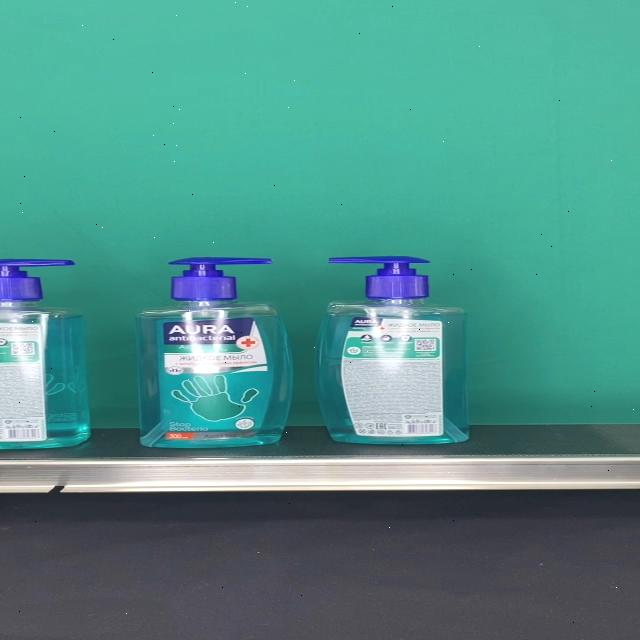Bottle: (134, 258, 294, 448), (315, 256, 469, 445)
Cap: (168, 257, 272, 300), (329, 256, 432, 299)
